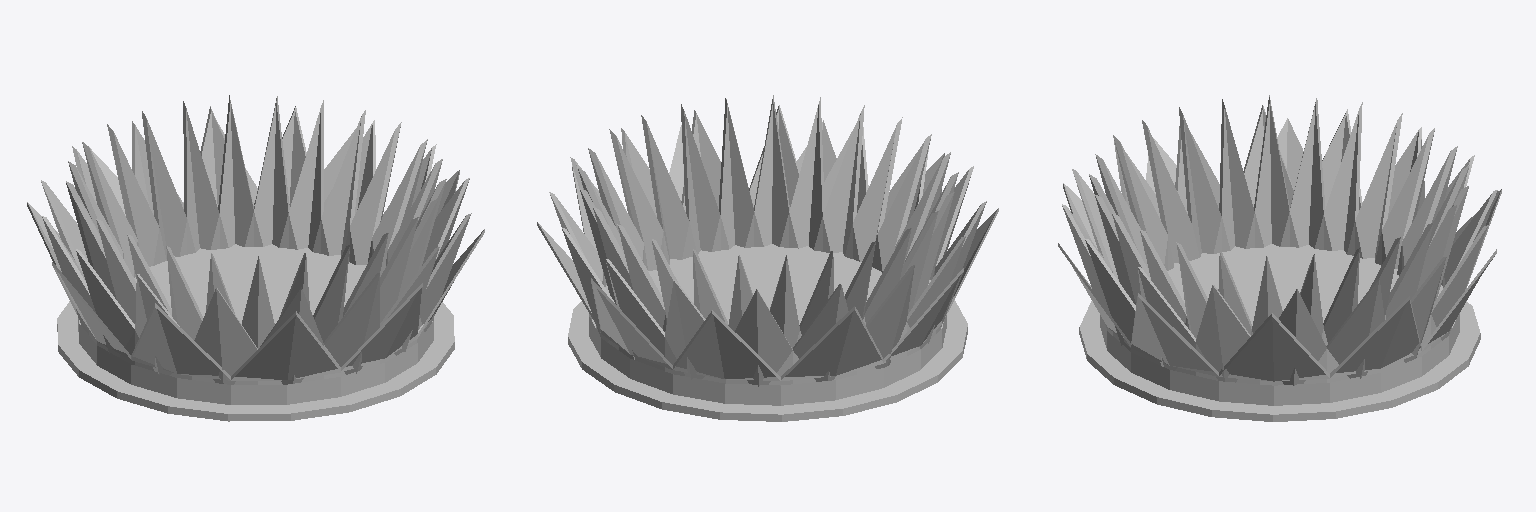
The model's file is portal_abrir_000043.obj.
3 views of the same model, side by side, from view 1: azimuth 30°, elevation 25°; view 2: azimuth 150°, elevation 25°; view 3: azimuth 270°, elevation 25° (orthographic).
Visible parts, largest first — view 1: Cylinder.001, pCylinder1, Cylinder; view 2: Cylinder.001, pCylinder1, Cylinder; view 3: Cylinder.001, pCylinder1, Cylinder.
Part boxes in pixels (left/top/right/bottom): Cylinder.001: left=66, top=95, right=446, bottom=348; pCylinder1: left=27, top=124, right=484, bottom=421; Cylinder: left=41, top=106, right=471, bottom=384; Cylinder.001: left=578, top=95, right=958, bottom=348; pCylinder1: left=537, top=120, right=998, bottom=421; Cylinder: left=549, top=105, right=986, bottom=386; Cylinder.001: left=1089, top=95, right=1469, bottom=345; pCylinder1: left=1058, top=118, right=1501, bottom=421; Cylinder: left=1062, top=105, right=1497, bottom=385.
Bounding box in the file's own units: 7.21 × 2.81 × 6.93.